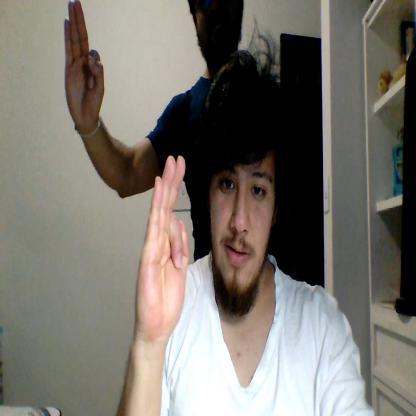F: (136, 153, 189, 338), (64, 0, 104, 122)
